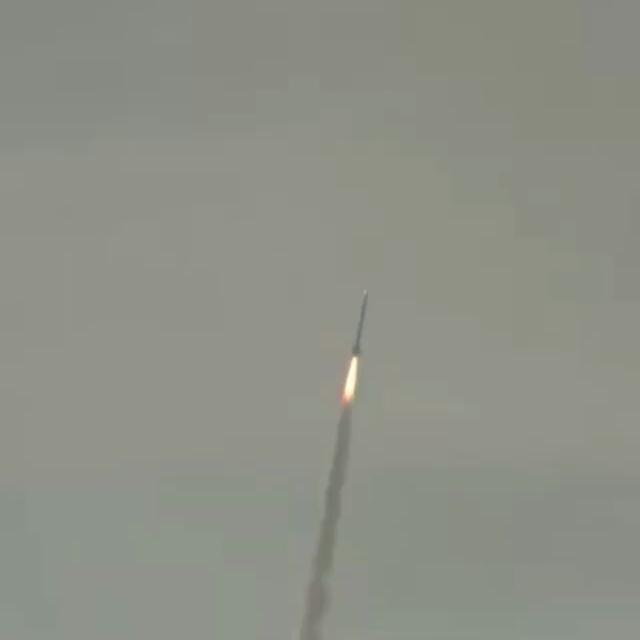smoke_trail_with_rocket: (296, 293, 370, 640)
